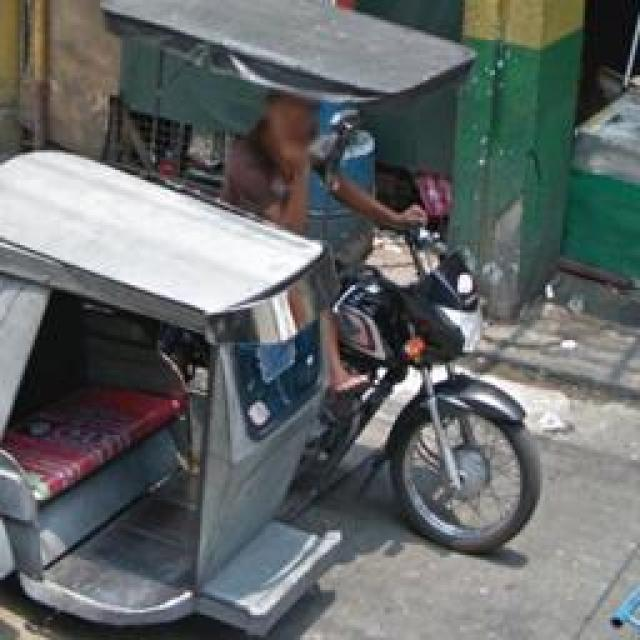Motor: (310, 218, 542, 552)
